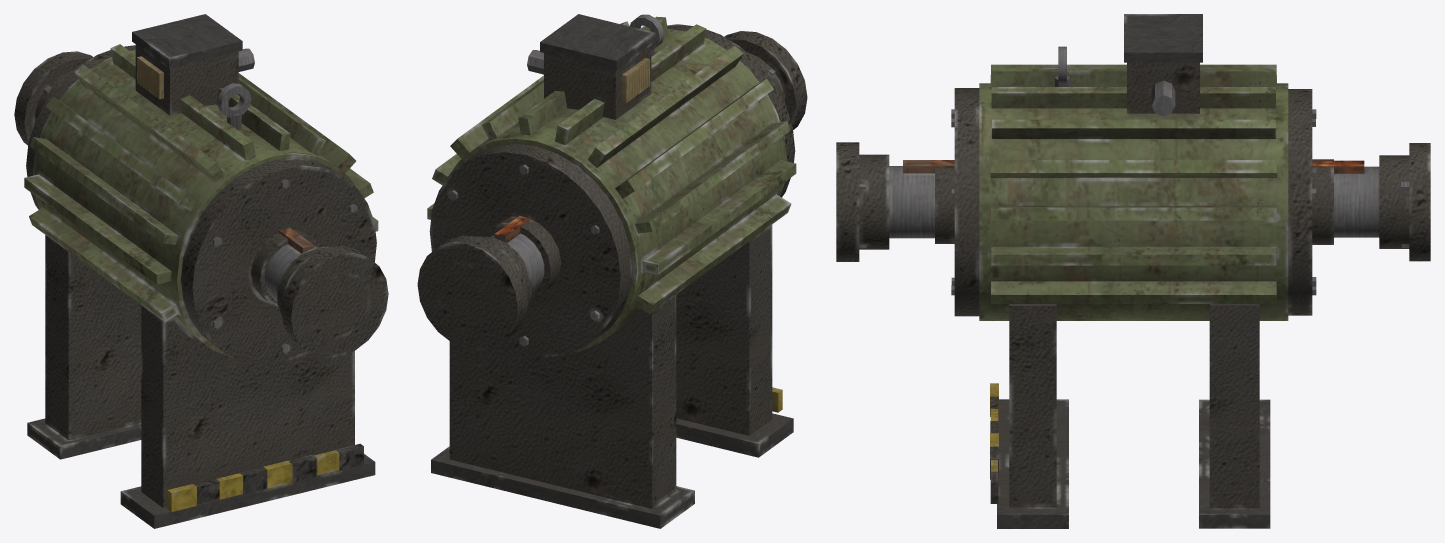
The model's file is feElectricMotor_HD.fbx.
3 views of the same model, side by side, from view 1: azimuth 30°, elevation 25°; view 2: azimuth 150°, elevation 25°; view 3: azimuth 270°, elevation 25° (orthographic). The views are drawn at different scales.
Parts seen in each view (by area): view 1: feElectricMotor_Base, FeSpin_Motor1; view 2: feElectricMotor_Base, FeSpin_Motor1; view 3: feElectricMotor_Base, FeSpin_Motor1.
Boxes of the visible parts, box(x1,y1,x2,y2) form: feElectricMotor_Base: box(24, 14, 378, 528); FeSpin_Motor1: box(14, 51, 388, 357); feElectricMotor_Base: box(427, 14, 796, 528); FeSpin_Motor1: box(417, 31, 807, 350); feElectricMotor_Base: box(935, 14, 1333, 528); FeSpin_Motor1: box(836, 142, 1430, 261).
Size of the model in its own units: 0.4618 by 0.815 by 1.
Materials: 1 (1 with a texture image).
